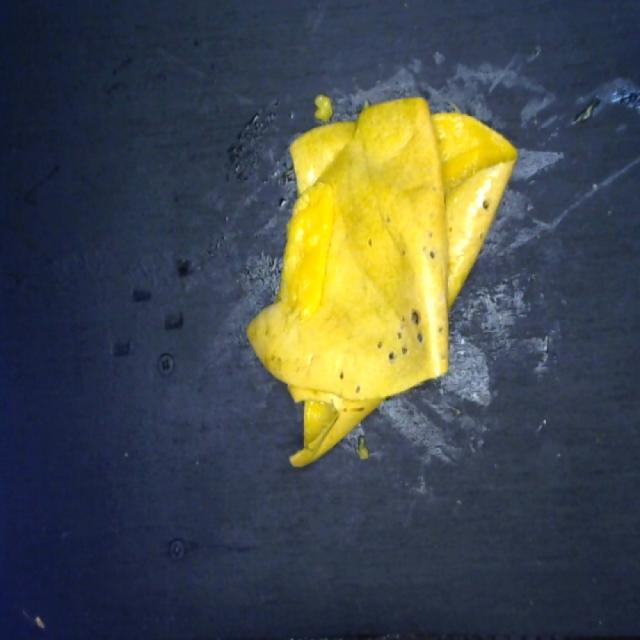biodegradable: (242, 92, 518, 480)
